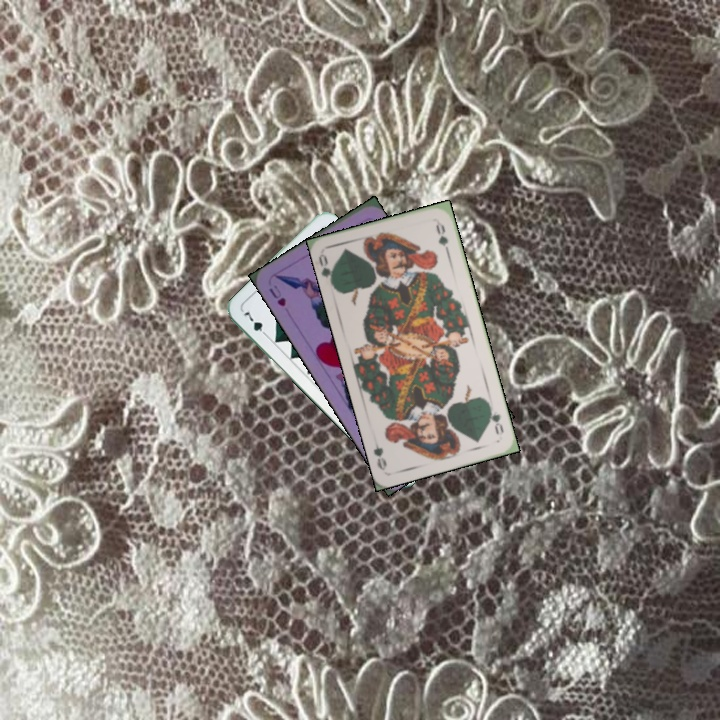G7: (240, 306, 271, 340)
GO: (314, 251, 337, 290), (485, 400, 506, 437)
HU: (264, 281, 289, 309)
